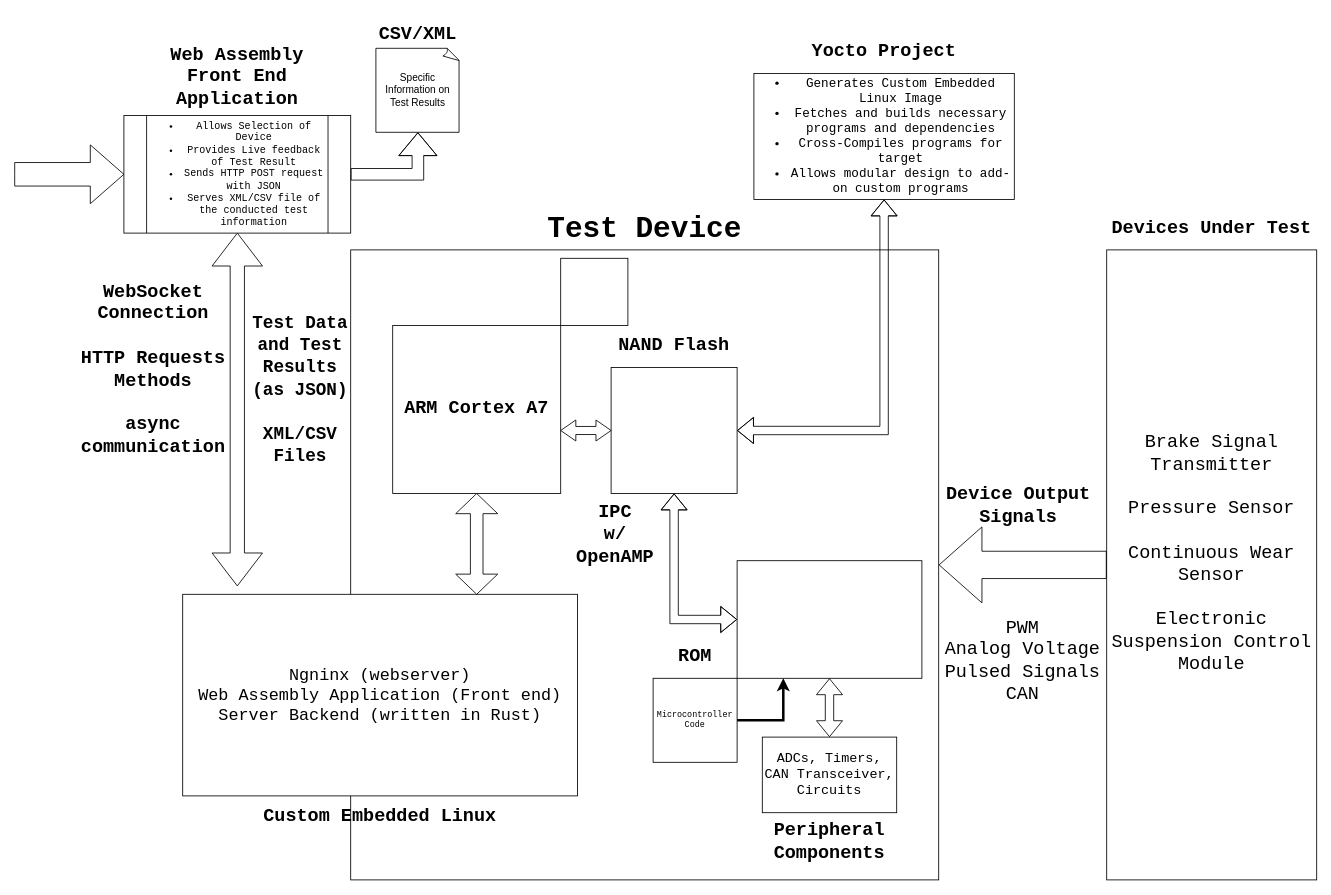
Some shapes in this 1331 by 895 pixel diagram are drawn without their labels. Here are the shapes that lost their labels. From the top down, the centre of each, then its label:
(x=69, y=174): User Input
(x=594, y=291): Wi-Fi Module
(x=673, y=430): Bootable Linux Image Linux File System Shared Memory Space
(x=829, y=619): ARM Cortex M4 (Microcontroller)
